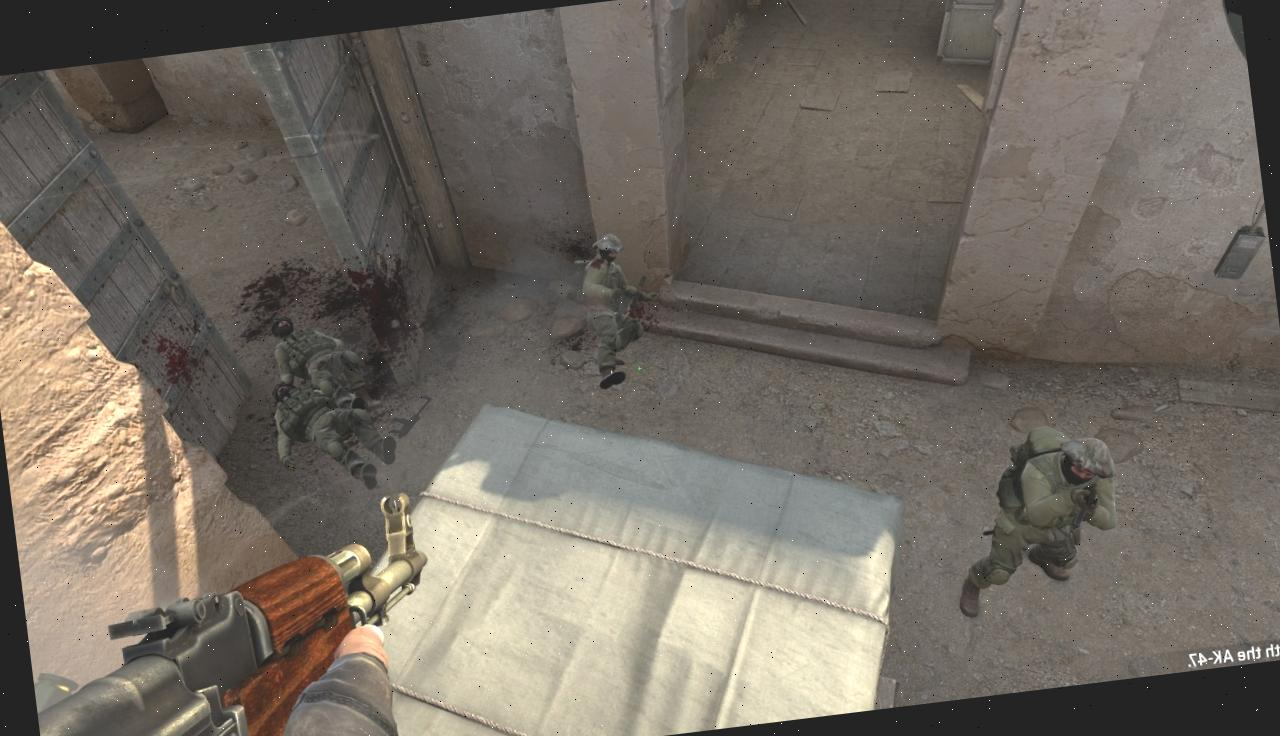ct: (941, 426, 1132, 616)
cthead: (1062, 437, 1113, 484)
rifle: (15, 487, 450, 736)
